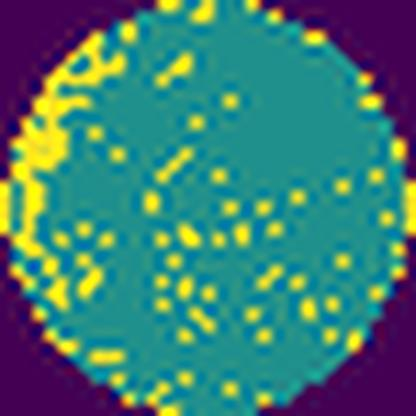Edge-Loc: (0, 18, 130, 313)
